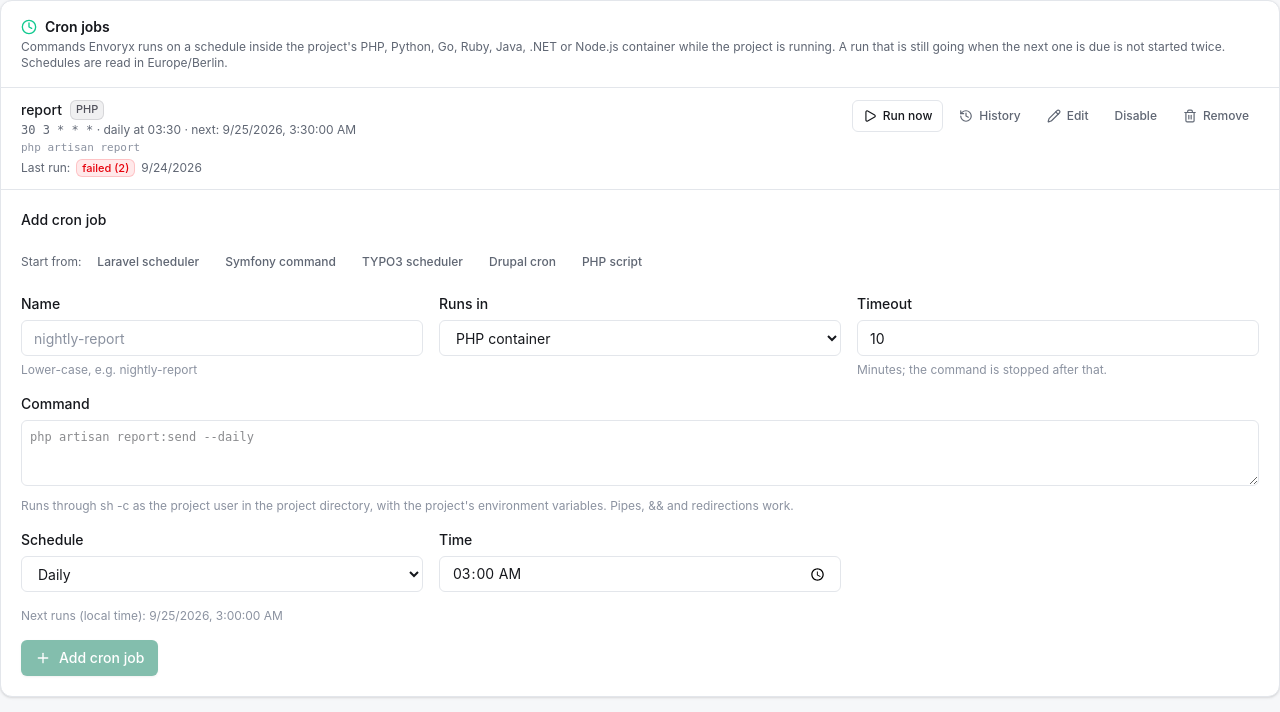
Test: CronTab › lists jobs, runs one and shows its output
This screenshot has width=1280, height=712.
Expected: the text "report" is shown, [21,101,62,118]
Expected: the text "30 3 * * * · daily at 03:30 · next: 9/25/2026, 3:30:00 AM" is shown, [21,122,356,138]
Click the button "Run now" at {"x": 898, "y": 116}, box [852,100,943,132]
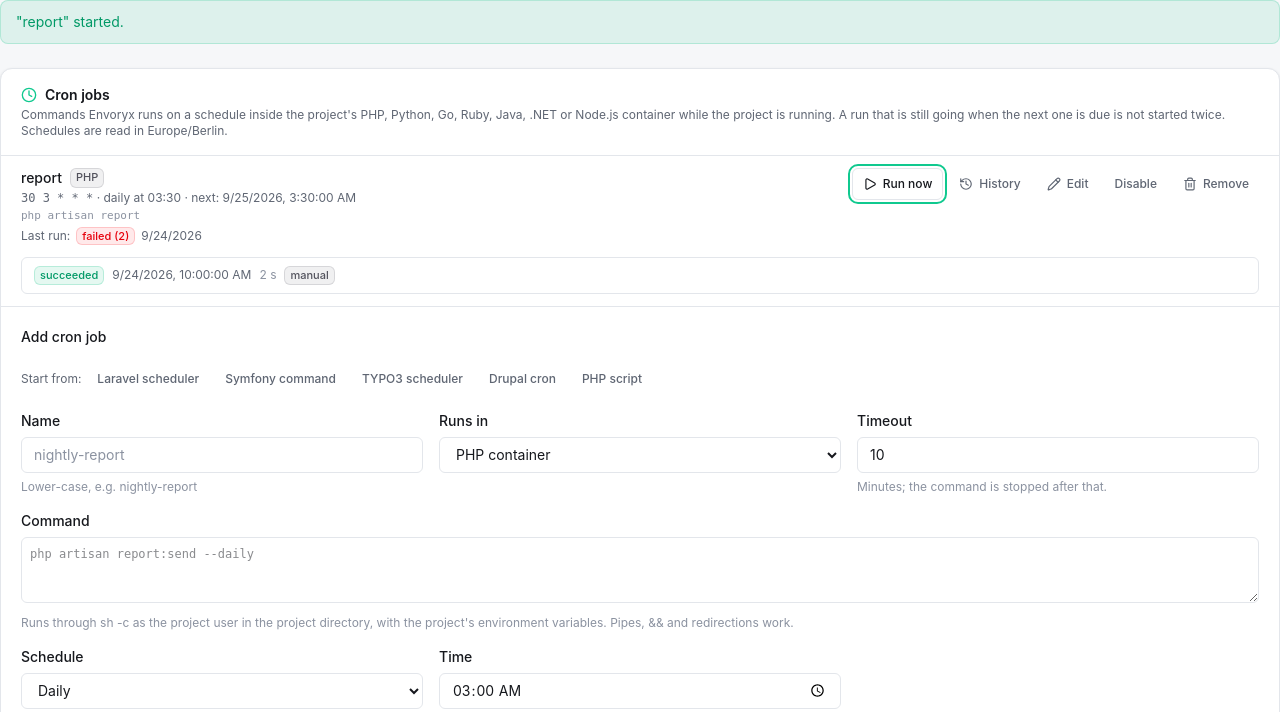
Click the button "succeeded 9/24/2026, 10:00:00 AM 2 s manual" at {"x": 69, "y": 275}, box [34,266,1246,285]
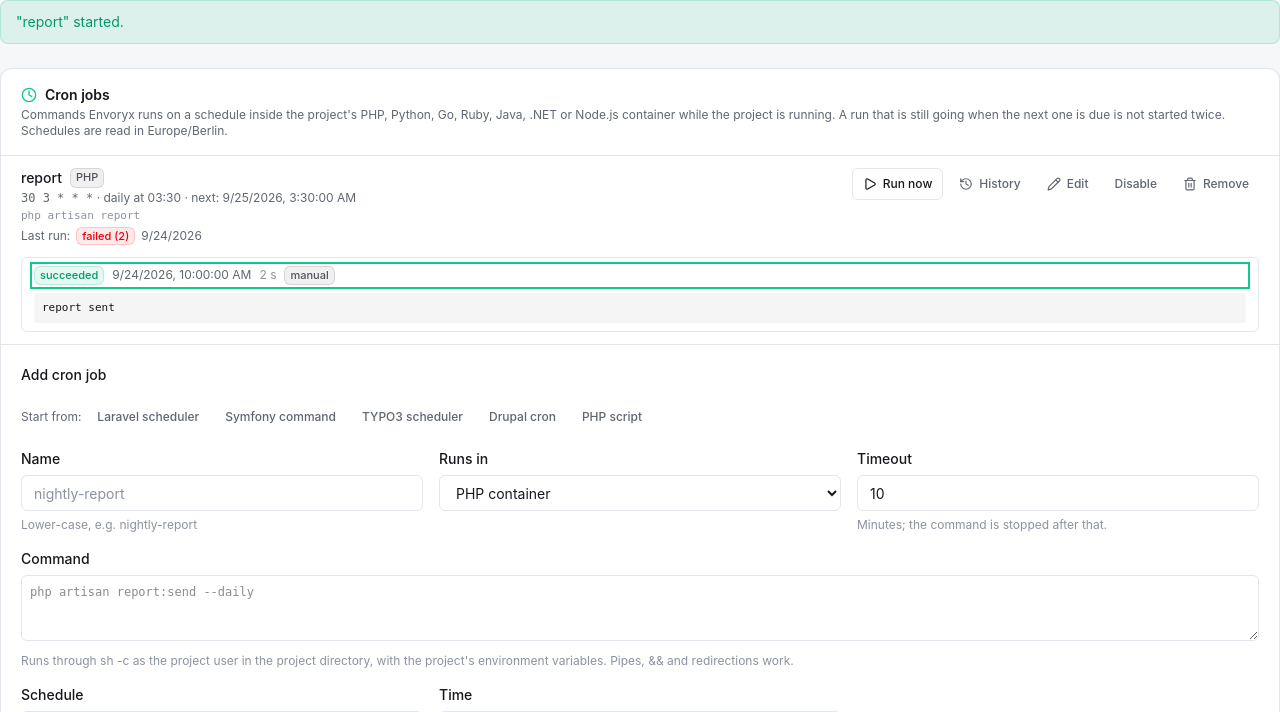
Now the text "report sent" is shown, box [34,293,1246,324]
